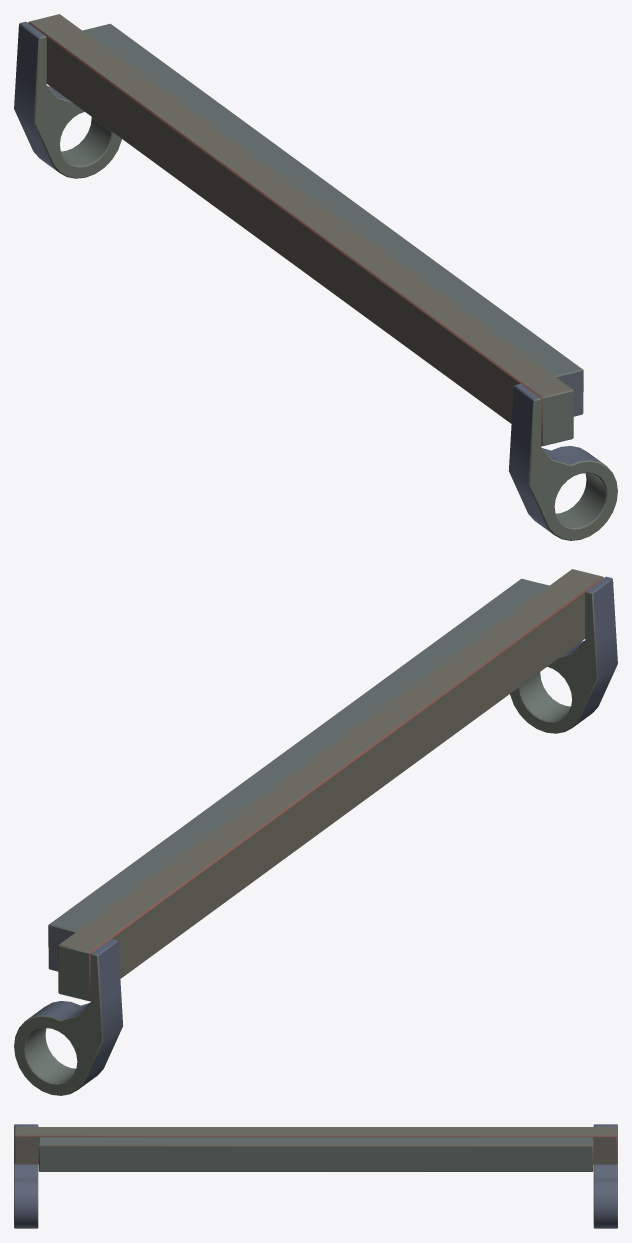
The model's file is Pincher_04.fbx.
3 renders of one model, top to bottom at view 1: azimuth 30°, elevation 25°; view 2: azimuth 150°, elevation 25°; view 3: azimuth 270°, elevation 25°, orthographic. The views are drawn at different scales.
Visible parts, largest first — view 1: Pincher_04; view 2: Pincher_04; view 3: Pincher_04.
Boxes of the visible parts, x1,y1,x2,y2 form: Pincher_04: [14, 14, 617, 540]; Pincher_04: [14, 569, 617, 1095]; Pincher_04: [14, 1124, 617, 1228].
Bounding box in the file's own units: 17.44 × 28.2 × 174.
